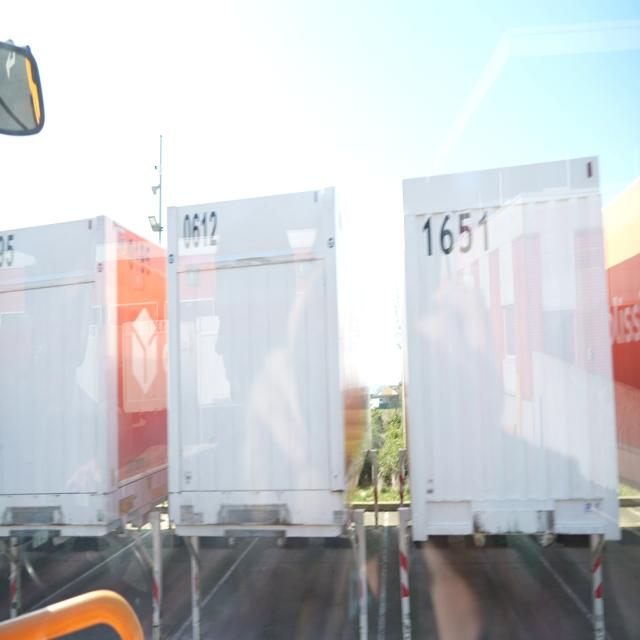Code: (419, 202, 493, 263), (176, 205, 224, 262)
